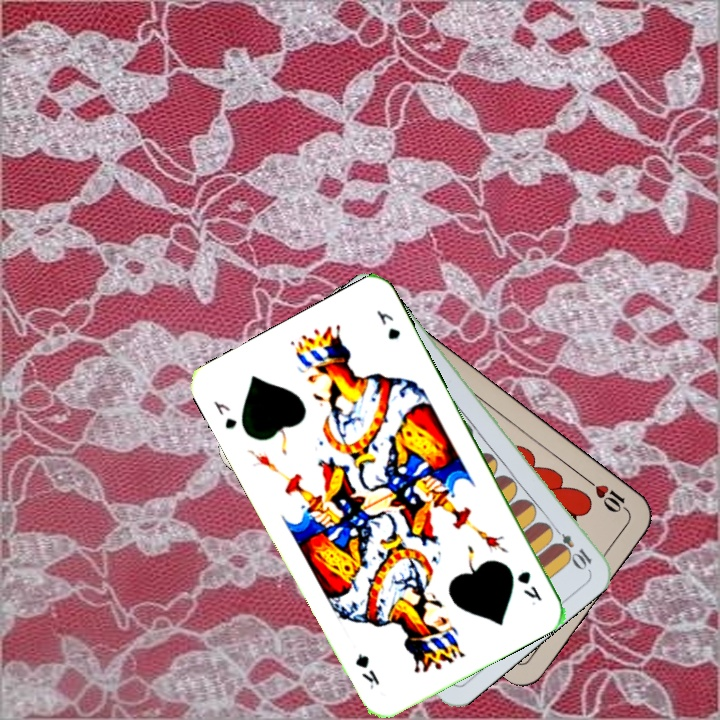E10: (547, 521, 595, 572)
GK: (513, 567, 545, 603), (209, 396, 240, 432)
H10: (583, 475, 633, 517)
